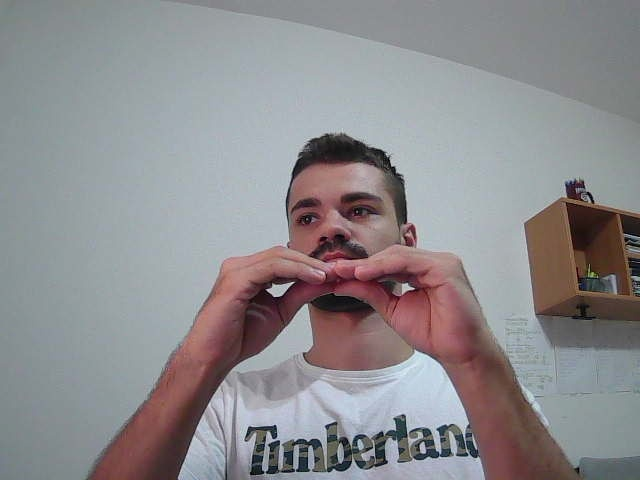b: (177, 236, 513, 371)
